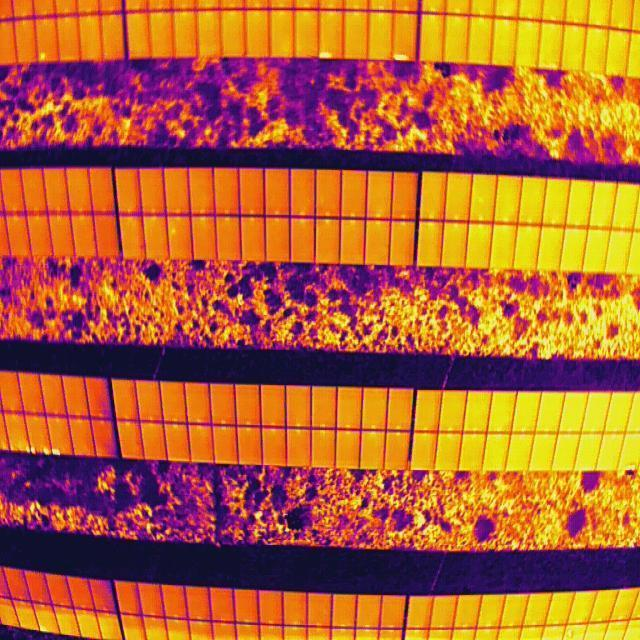panel: (37, 372, 69, 416), (59, 373, 91, 417), (84, 373, 113, 419), (24, 413, 54, 457), (46, 414, 76, 458), (66, 416, 96, 460), (87, 416, 117, 460), (239, 215, 267, 262), (264, 216, 292, 263), (313, 217, 341, 264), (340, 217, 368, 264), (364, 219, 392, 266), (387, 220, 415, 267), (134, 378, 163, 423), (160, 380, 189, 425), (182, 379, 211, 424), (208, 380, 237, 425), (232, 383, 261, 428), (260, 382, 287, 427), (286, 381, 313, 426), (285, 425, 312, 470), (259, 424, 286, 469), (310, 385, 337, 430), (310, 425, 337, 470), (143, 214, 169, 260), (166, 214, 192, 260), (192, 215, 218, 261), (117, 419, 146, 460), (140, 421, 169, 462), (163, 421, 192, 462), (188, 423, 217, 464), (210, 424, 239, 465), (235, 426, 264, 467), (112, 377, 138, 419)
